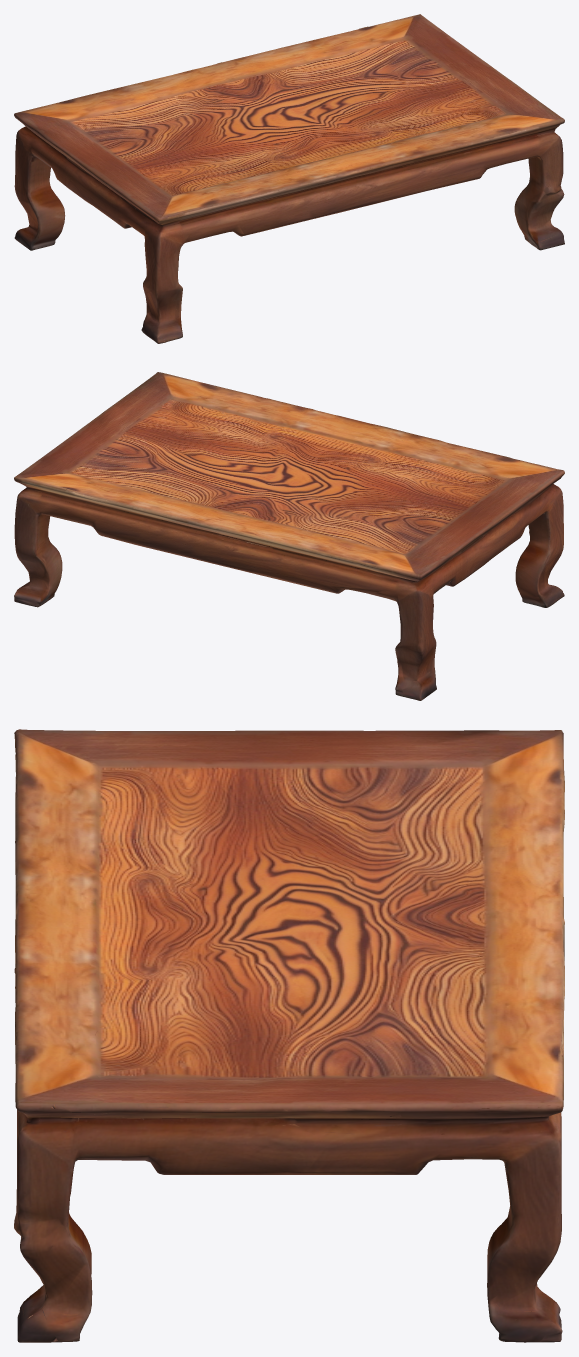
The model's file is table.glb.
3 renders of one model, top to bottom at view 1: azimuth 30°, elevation 25°; view 2: azimuth 150°, elevation 25°; view 3: azimuth 270°, elevation 25°, orthographic. The views are drawn at different scales.
Visible parts, largest first — view 1: Mesh1.0; view 2: Mesh1.0; view 3: Mesh1.0.
Boxes of the visible parts, x1,y1,x2,y2 form: Mesh1.0: (14, 14, 564, 343); Mesh1.0: (14, 372, 564, 700); Mesh1.0: (14, 729, 564, 1342).
Bounding box in the file's own units: 2.01 × 0.5935 × 1.24.
Materials: 1 (1 with a texture image).
